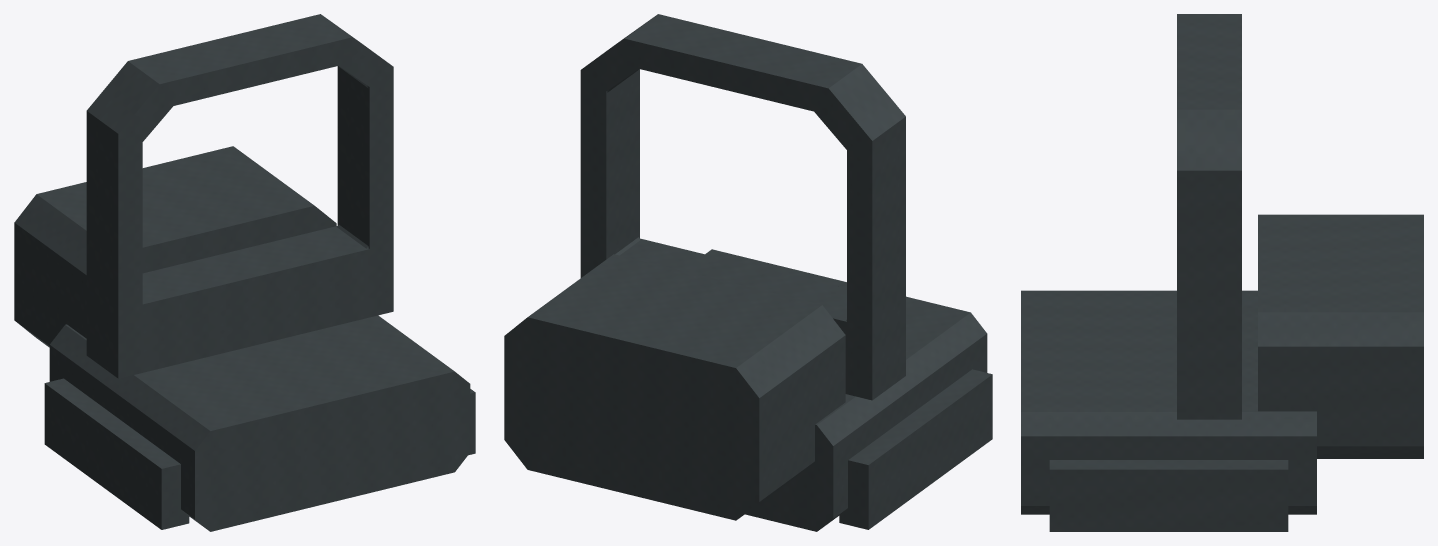
Rendered from holo.glb.
3 renders of one model, left to right at view 1: azimuth 30°, elevation 25°; view 2: azimuth 150°, elevation 25°; view 3: azimuth 270°, elevation 25°, orthographic. The views are drawn at different scales.
Parts seen in each view (by area): view 1: holo_foot, holo_foot.001; view 2: holo_foot, holo_foot.001; view 3: holo_foot, holo_foot.001.
Boxes of the visible parts, <box> form: holo_foot: <box>14,15,475,531</box>; holo_foot.001: <box>86,14,393,378</box>; holo_foot: <box>504,15,992,531</box>; holo_foot.001: <box>580,14,905,400</box>; holo_foot: <box>1021,15,1423,531</box>; holo_foot.001: <box>1177,14,1241,419</box>.
Bounding box in the file's own units: 0.0912 × 0.107 × 0.0996.
1 material, 1 textured.
